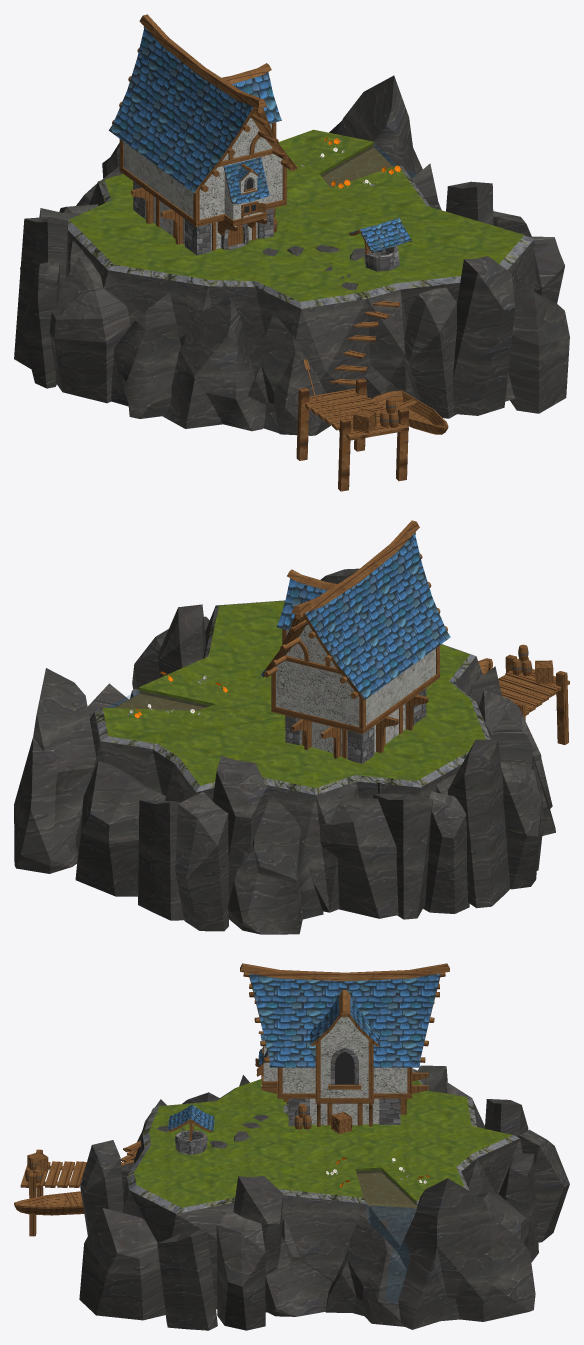
The model's file is Level3.fbx.
3 renders of one model, top to bottom at view 1: azimuth 30°, elevation 25°; view 2: azimuth 150°, elevation 25°; view 3: azimuth 270°, elevation 25°, orthographic. The views are drawn at different scales.
Parts seen in each view (by area): view 1: polySurface32, polySurface10, well, pCube22, pCube18, pCube16, pCube19, polySurface31; view 2: polySurface32, polySurface10, pCube18; view 3: polySurface32, polySurface10, well, pCube22.
Part boxes in pixels (left/top/right/bottom): polySurface32: left=14, top=75, right=569, bottom=435; polySurface10: left=109, top=14, right=297, bottom=255; well: left=349, top=217, right=412, bottom=271; pCube22: left=372, top=390, right=448, bottom=434; pCube18: left=338, top=418, right=351, bottom=491; pCube16: left=296, top=387, right=309, bottom=460; pCube19: left=396, top=408, right=408, bottom=481; polySurface31: left=338, top=365, right=407, bottom=398; polySurface32: left=14, top=568, right=555, bottom=934; polySurface10: left=260, top=520, right=450, bottom=763; pCube18: left=556, top=671, right=568, bottom=744; polySurface32: left=79, top=1065, right=569, bottom=1330; polySurface10: left=240, top=963, right=449, bottom=1126; well: left=168, top=1104, right=214, bottom=1154; pCube22: left=14, top=1191, right=84, bottom=1215.
Size of the model in its own units: 621 by 381 by 735.
